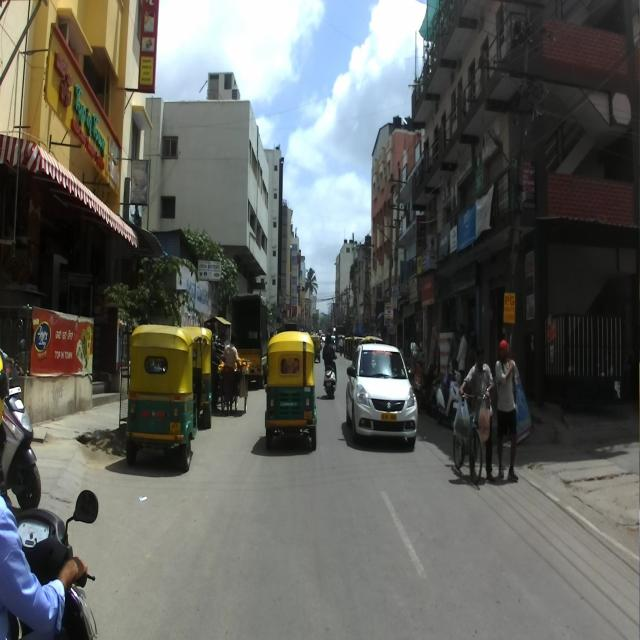Car_Maruti-Suzuki: (345, 343, 418, 448)
autorickshaw: (125, 323, 207, 473), (264, 331, 317, 450)
scooter: (0, 338, 41, 512), (435, 368, 463, 430)
